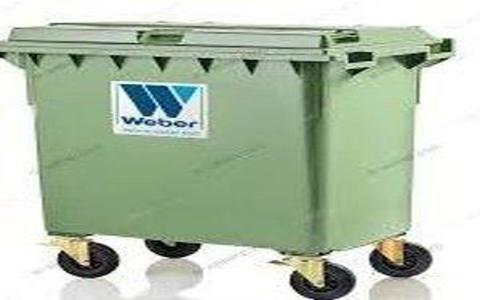Proper garbage: (1, 1, 449, 297)
